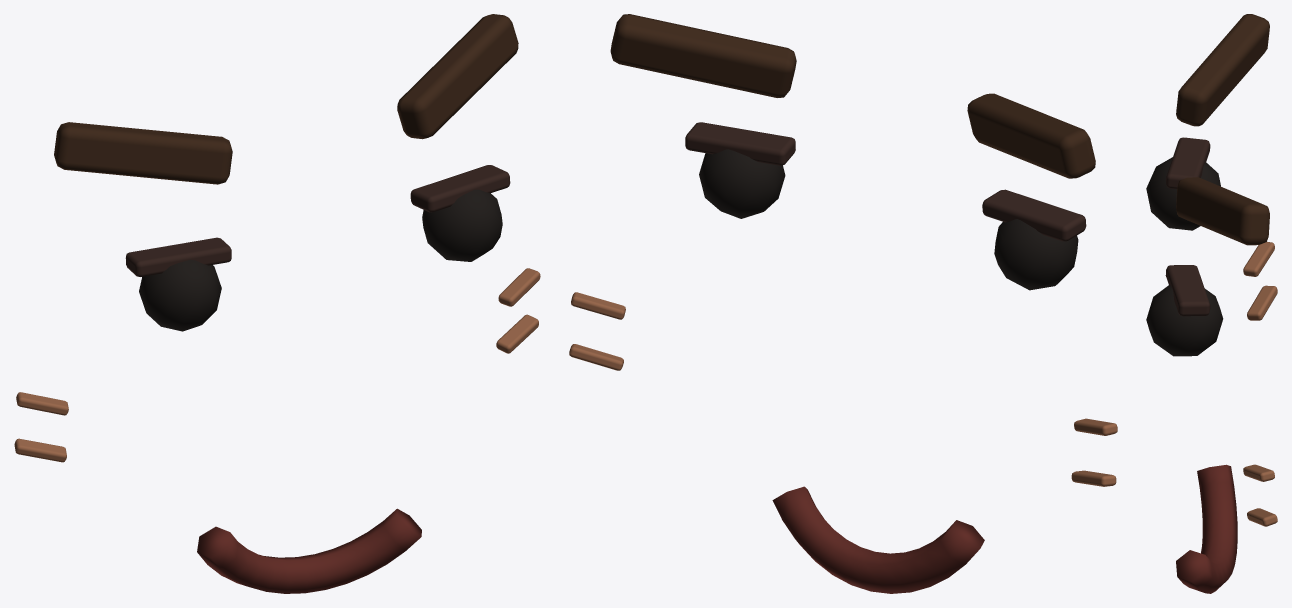
Rendered from 19-seasoned.glb.
The picture shows the model from 3 angles, left to right: view 1: azimuth 30°, elevation 25°; view 2: azimuth 150°, elevation 25°; view 3: azimuth 270°, elevation 25°; orthographic projection. The views are drawn at different scales.
Visible parts, largest first — view 1: Face19_Mouth, Face19_Brow-1, Face19_Brow1, Face19_Eye-1, Face19_Eye1, Face19_Eyelid-1, Face19_Eyelid1, Face19_SmileLine-11, Face19_SmileLine11, Face19_SmileLine10, Face19_SmileLine-10; view 2: Face19_Brow1, Face19_Mouth, Face19_Brow-1, Face19_Eye1, Face19_Eye-1, Face19_Eyelid1, Face19_Eyelid-1, Face19_SmileLine10, Face19_SmileLine11; view 3: Face19_Mouth, Face19_Brow-1, Face19_Brow1, Face19_Eye1, Face19_Eye-1, Face19_Eyelid1, Face19_Eyelid-1, Face19_SmileLine-11, Face19_SmileLine-10, Face19_SmileLine11, Face19_SmileLine10.
Boxes of the visible parts, <box> form: Face19_Mouth: <box>197,508,421,593</box>; Face19_Brow-1: <box>54,122,232,184</box>; Face19_Brow1: <box>397,14,518,139</box>; Face19_Eye-1: <box>139,259,221,331</box>; Face19_Eye1: <box>422,189,502,261</box>; Face19_Eyelid-1: <box>125,237,231,276</box>; Face19_Eyelid1: <box>410,165,510,212</box>; Face19_SmileLine-11: <box>14,438,66,462</box>; Face19_SmileLine11: <box>496,314,538,353</box>; Face19_SmileLine10: <box>498,268,540,306</box>; Face19_SmileLine-10: <box>16,392,68,415</box>; Face19_Brow1: <box>610,14,796,97</box>; Face19_Mouth: <box>772,486,984,593</box>; Face19_Brow-1: <box>967,93,1095,178</box>; Face19_Eye1: <box>699,149,785,218</box>; Face19_Eye-1: <box>994,219,1078,290</box>; Face19_Eyelid1: <box>685,122,795,165</box>; Face19_Eyelid-1: <box>982,189,1086,241</box>; Face19_SmileLine10: <box>571,292,625,319</box>; Face19_SmileLine11: <box>569,344,623,370</box>; Face19_Mouth: <box>1176,464,1237,593</box>; Face19_Brow-1: <box>1176,14,1269,126</box>; Face19_Brow1: <box>1176,177,1269,245</box>; Face19_Eye1: <box>1146,284,1223,356</box>; Face19_Eye-1: <box>1146,157,1220,230</box>; Face19_Eyelid1: <box>1165,265,1210,316</box>; Face19_Eyelid-1: <box>1166,137,1210,188</box>; Face19_SmileLine-11: <box>1247,285,1277,320</box>; Face19_SmileLine-10: <box>1243,241,1274,276</box>; Face19_SmileLine11: <box>1247,508,1277,526</box>; Face19_SmileLine10: <box>1243,464,1274,481</box>.
Size of the model in its own units: 0.3418 by 0.3188 by 0.081.
